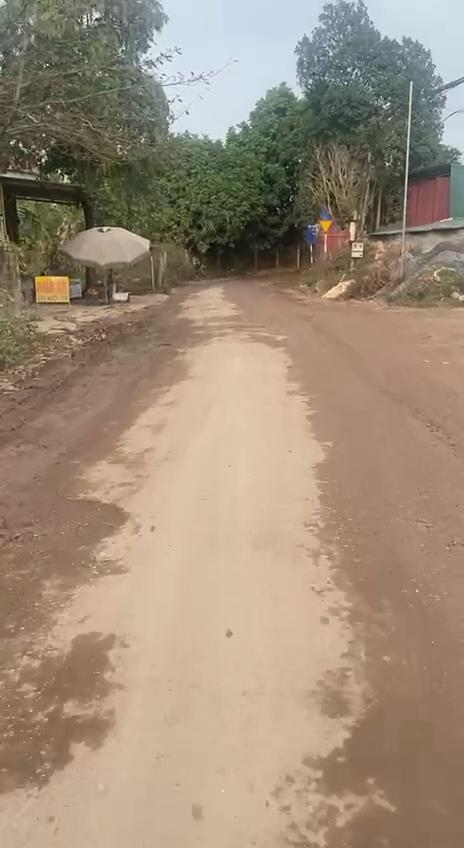pothole: (0, 494, 139, 550)
